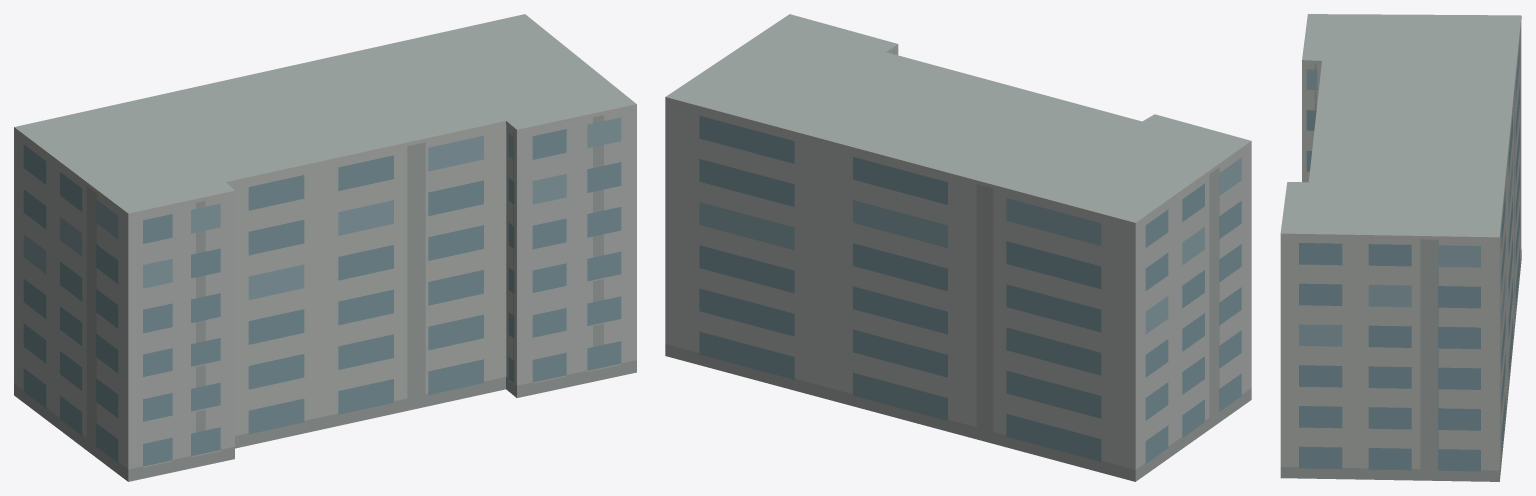
The model's file is survey-upis-32968826.glb.
3 views of the same model, side by side, from view 1: azimuth 30°, elevation 25°; view 2: azimuth 150°, elevation 25°; view 3: azimuth 270°, elevation 25° (orthographic). The views are drawn at different scales.
Visible parts, largest first — view 1: survey-upis-32968826.tmp; view 2: survey-upis-32968826.tmp; view 3: survey-upis-32968826.tmp.
Boxes of the visible parts, <box> form: survey-upis-32968826.tmp: <box>14,14,636,481</box>; survey-upis-32968826.tmp: <box>665,14,1251,481</box>; survey-upis-32968826.tmp: <box>1280,14,1521,481</box>.
Bounding box in the file's own units: 33.88 × 17.3 × 15.46.
